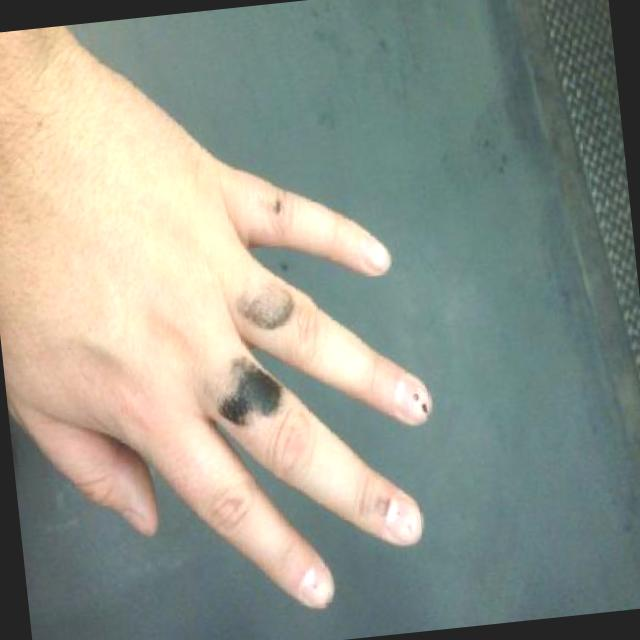Person: (0, 0, 453, 639)
